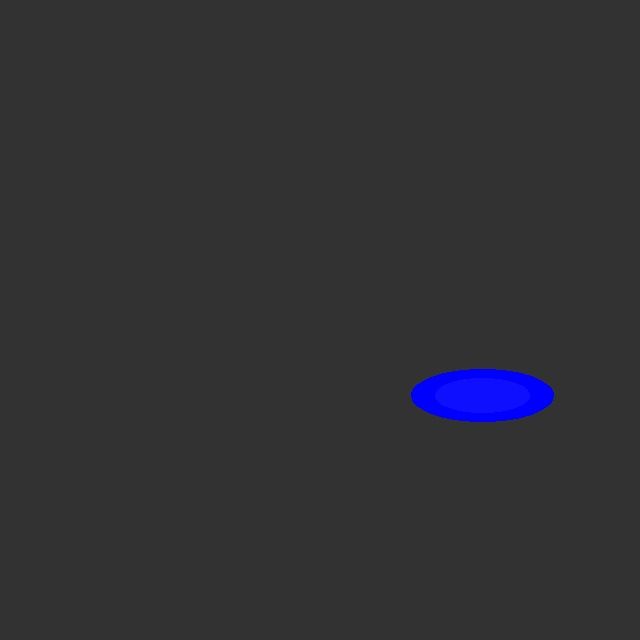fish: (411, 369, 553, 421)
